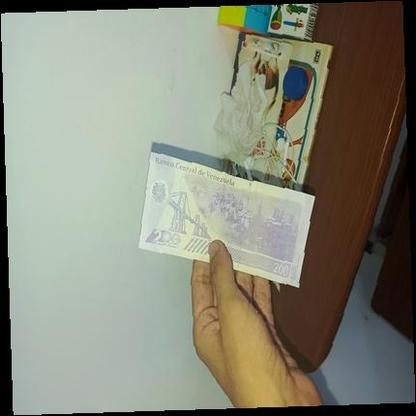two_hundred-back-vef: (136, 151, 316, 289)
